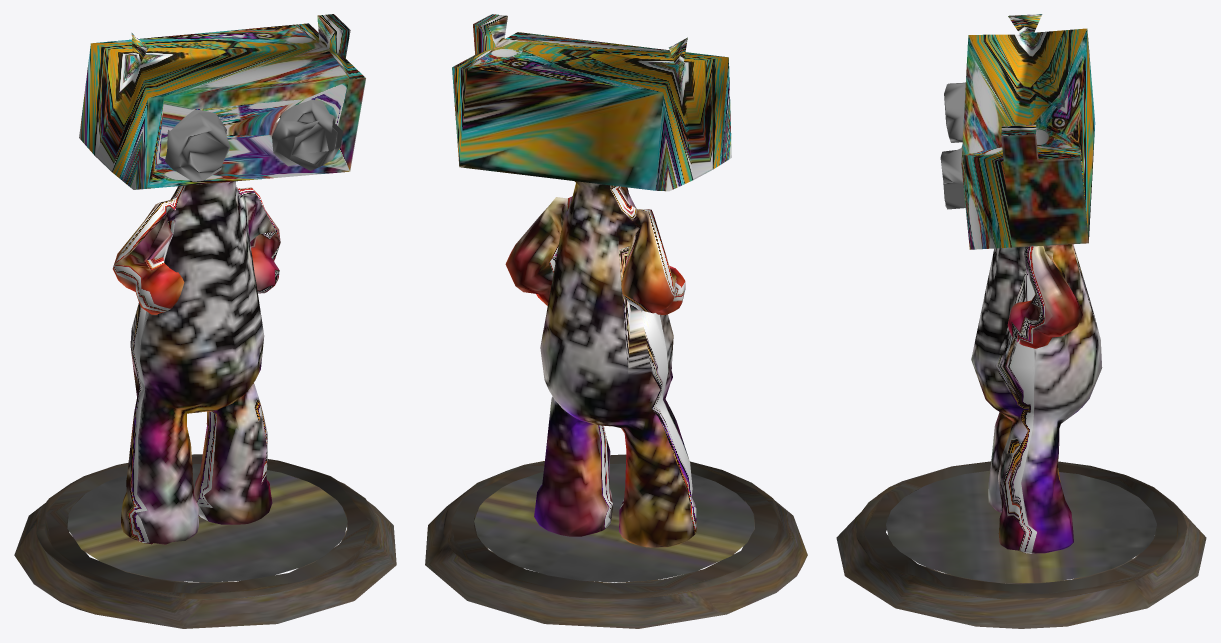
3 renders of one model, left to right at view 1: azimuth 30°, elevation 25°; view 2: azimuth 150°, elevation 25°; view 3: azimuth 270°, elevation 25°, orthographic. The views are drawn at different scales.
Size of the model in its own units: 1.45 by 2.16 by 1.43.
5 materials, 4 textured.
